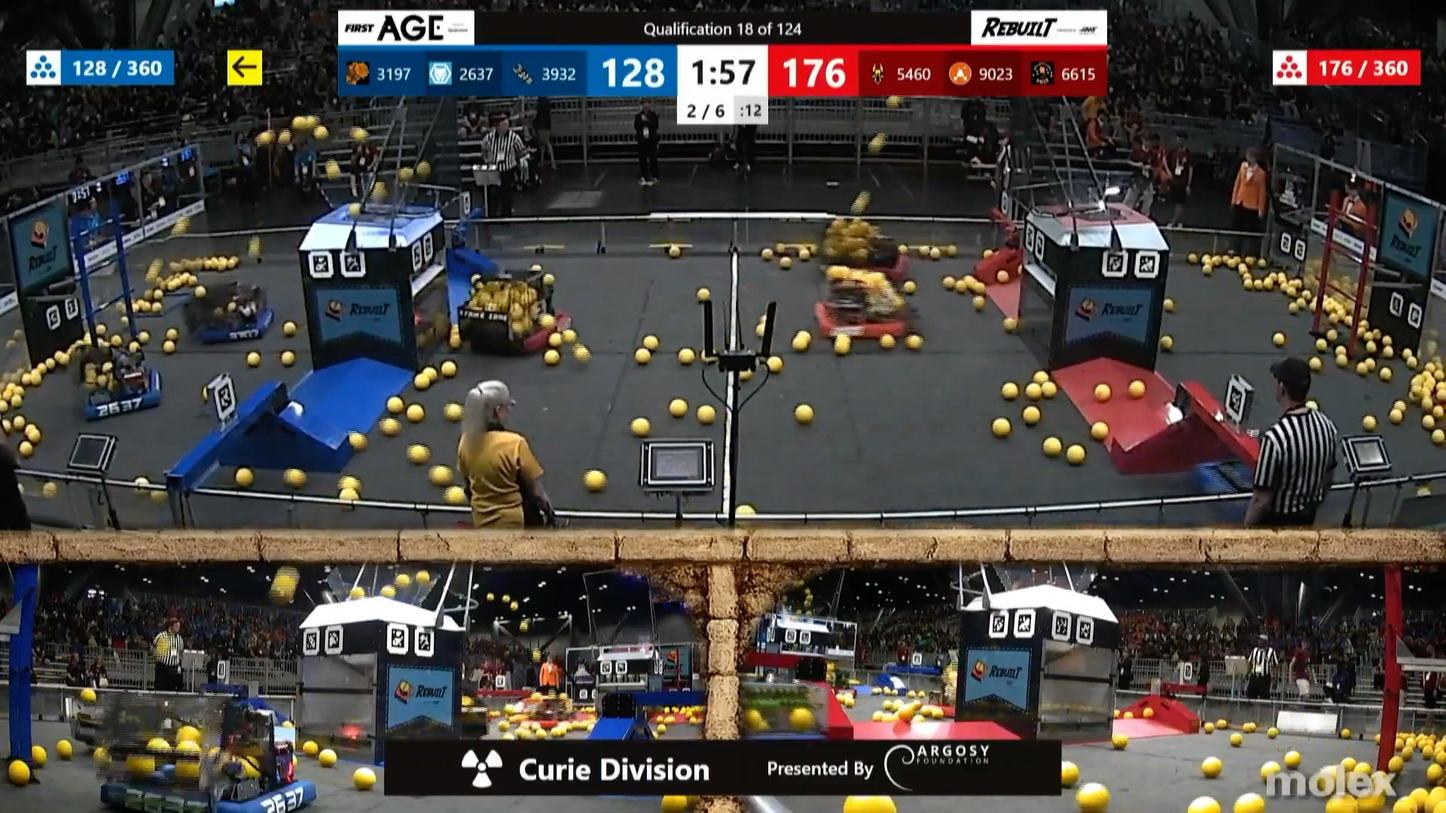bumpers: (93, 770, 325, 812), (66, 360, 179, 425), (808, 291, 922, 352), (185, 300, 292, 349), (467, 315, 578, 357), (815, 252, 910, 282)
